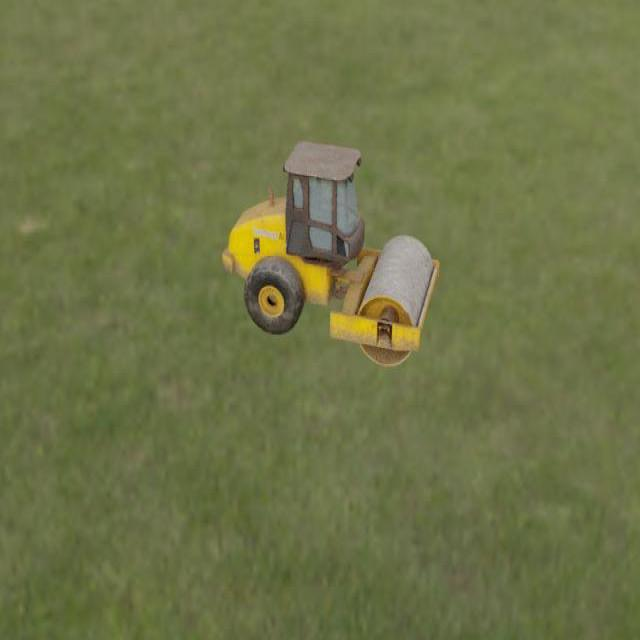Roller: (221, 140, 439, 367)
